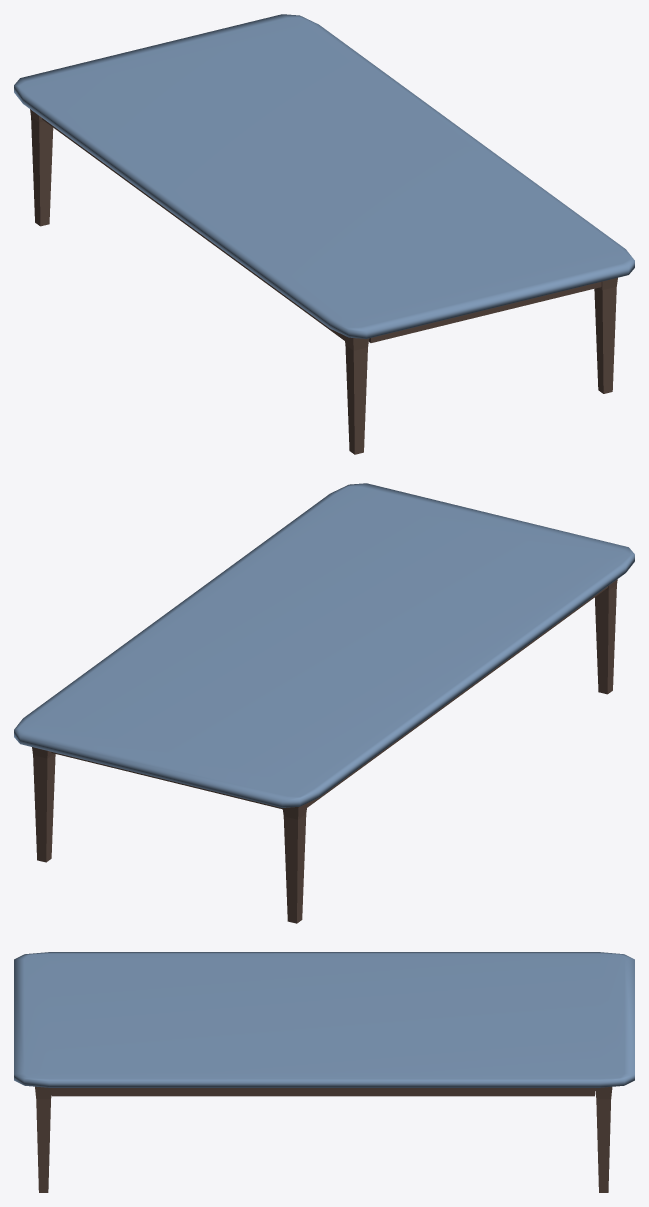
File: table.fbx
The picture shows the model from 3 angles, top to bottom: view 1: azimuth 30°, elevation 25°; view 2: azimuth 150°, elevation 25°; view 3: azimuth 270°, elevation 25°; orthographic projection. The views are drawn at different scales.
Parts seen in each view (by area): view 1: Cube.004; view 2: Cube.004; view 3: Cube.004.
Boxes of the visible parts, x1,y1,x2,y2 form: Cube.004: [14, 14, 634, 454]; Cube.004: [14, 483, 634, 923]; Cube.004: [14, 952, 634, 1192].
Bounding box in the file's own units: 282 × 123 × 572.
